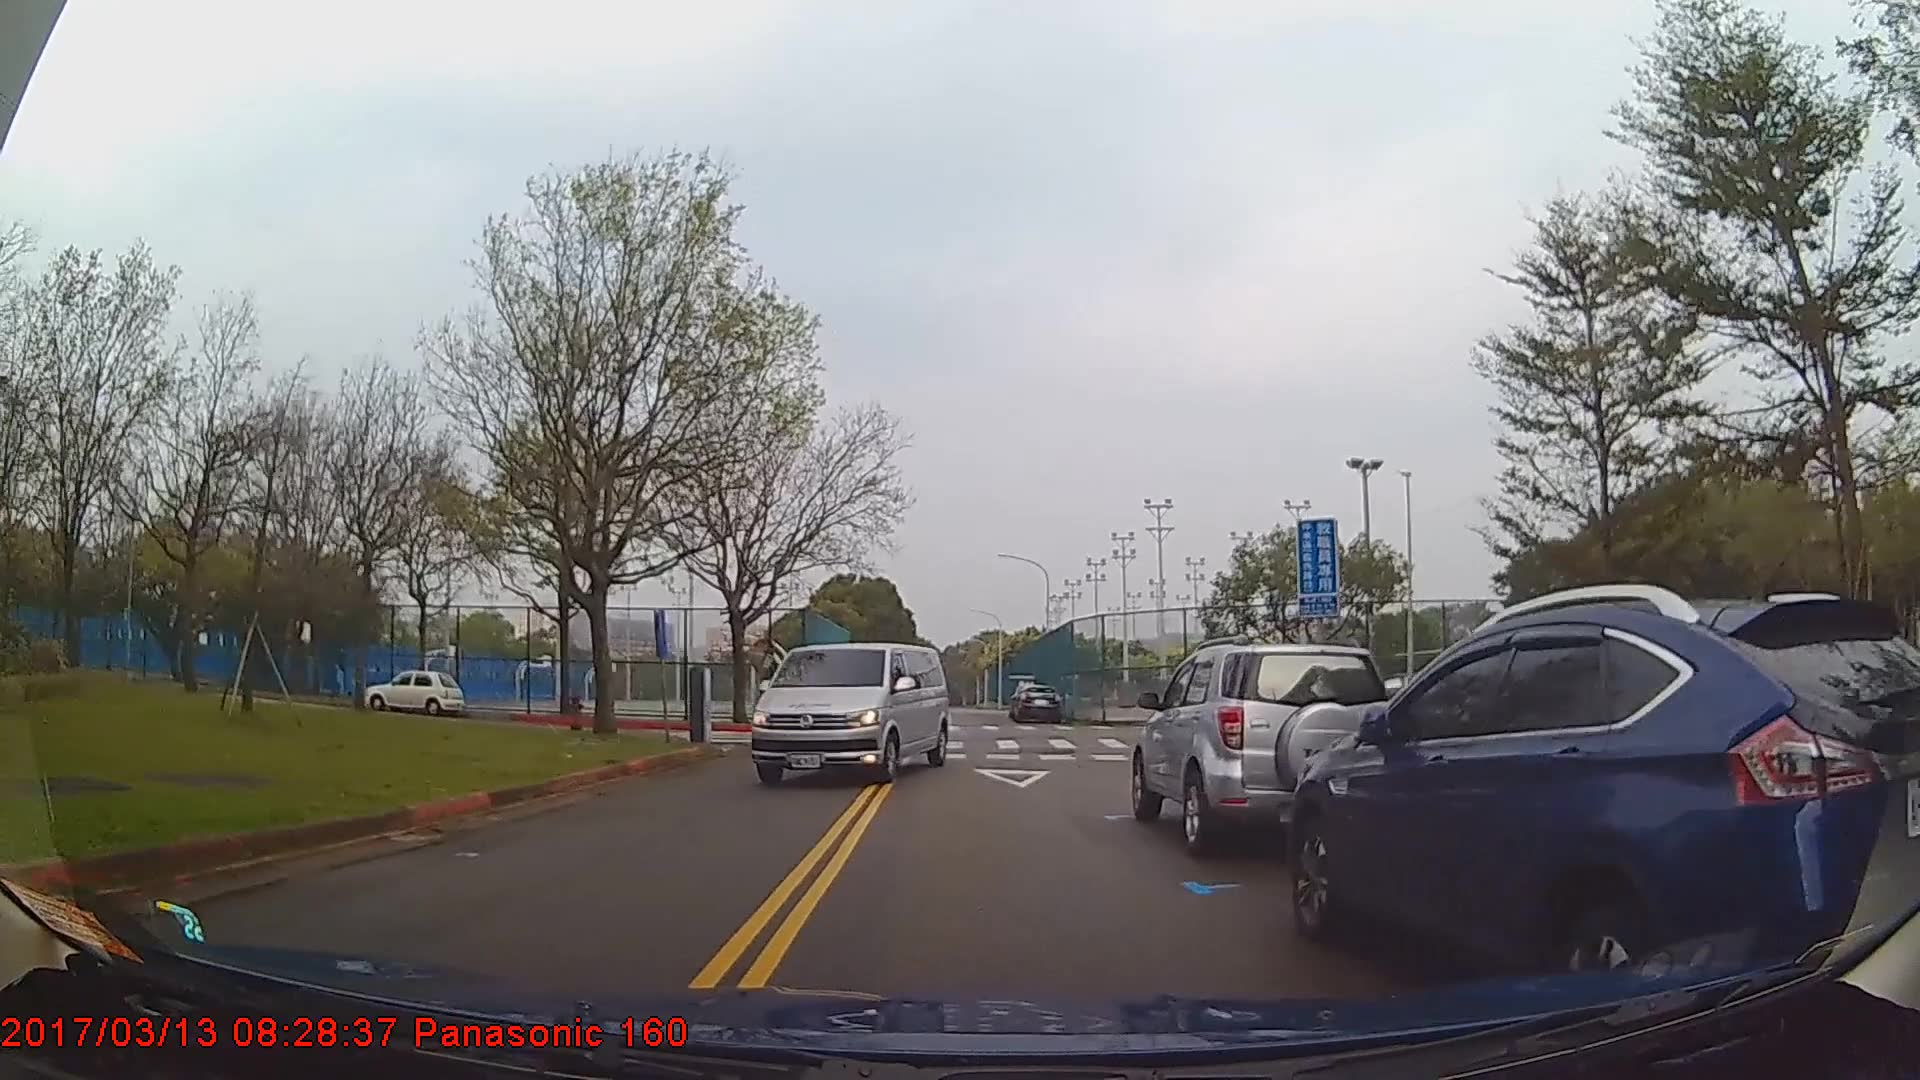vehicle: (1288, 593, 1920, 1009), (1129, 641, 1400, 858), (745, 642, 948, 787), (367, 669, 465, 715), (1014, 683, 1062, 725)
